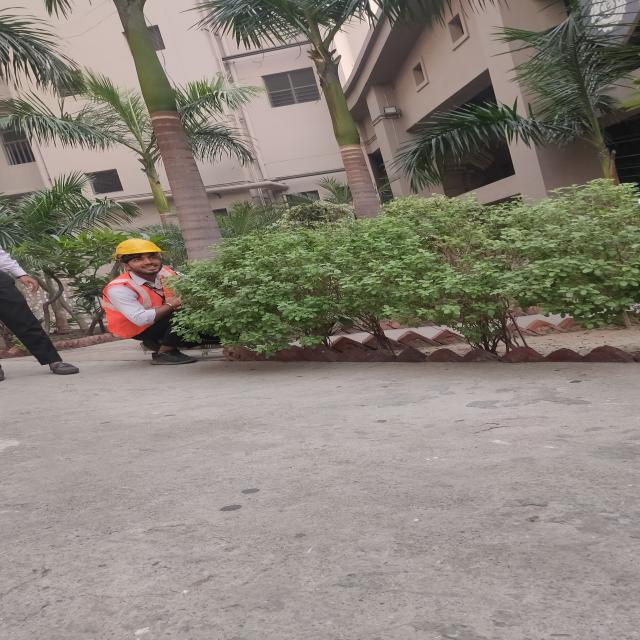safe: (100, 238, 225, 366)
